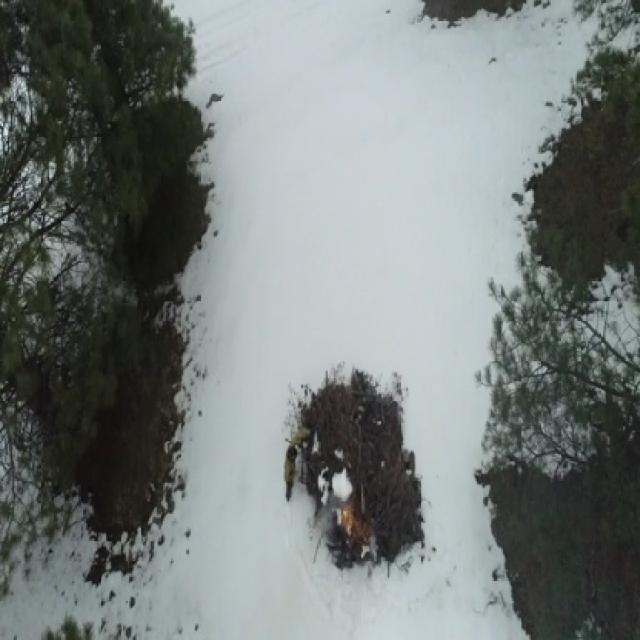Fire: (340, 507, 362, 537)
